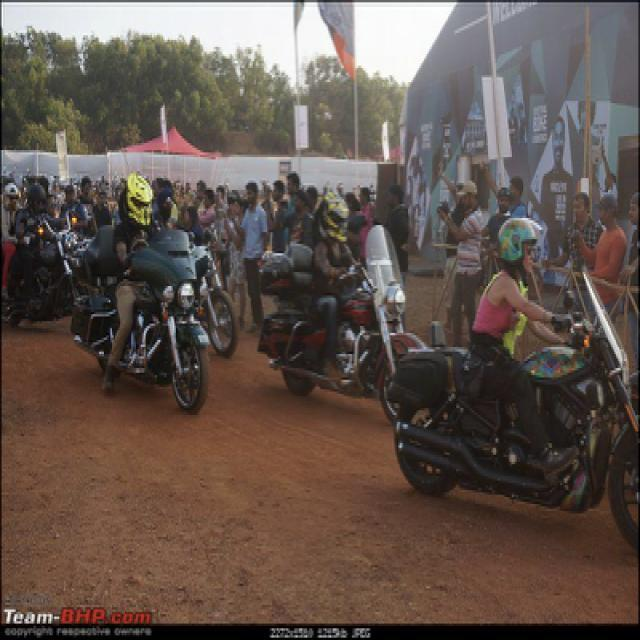Helmet: (496, 211, 541, 272), (320, 185, 349, 246), (123, 171, 154, 228)
